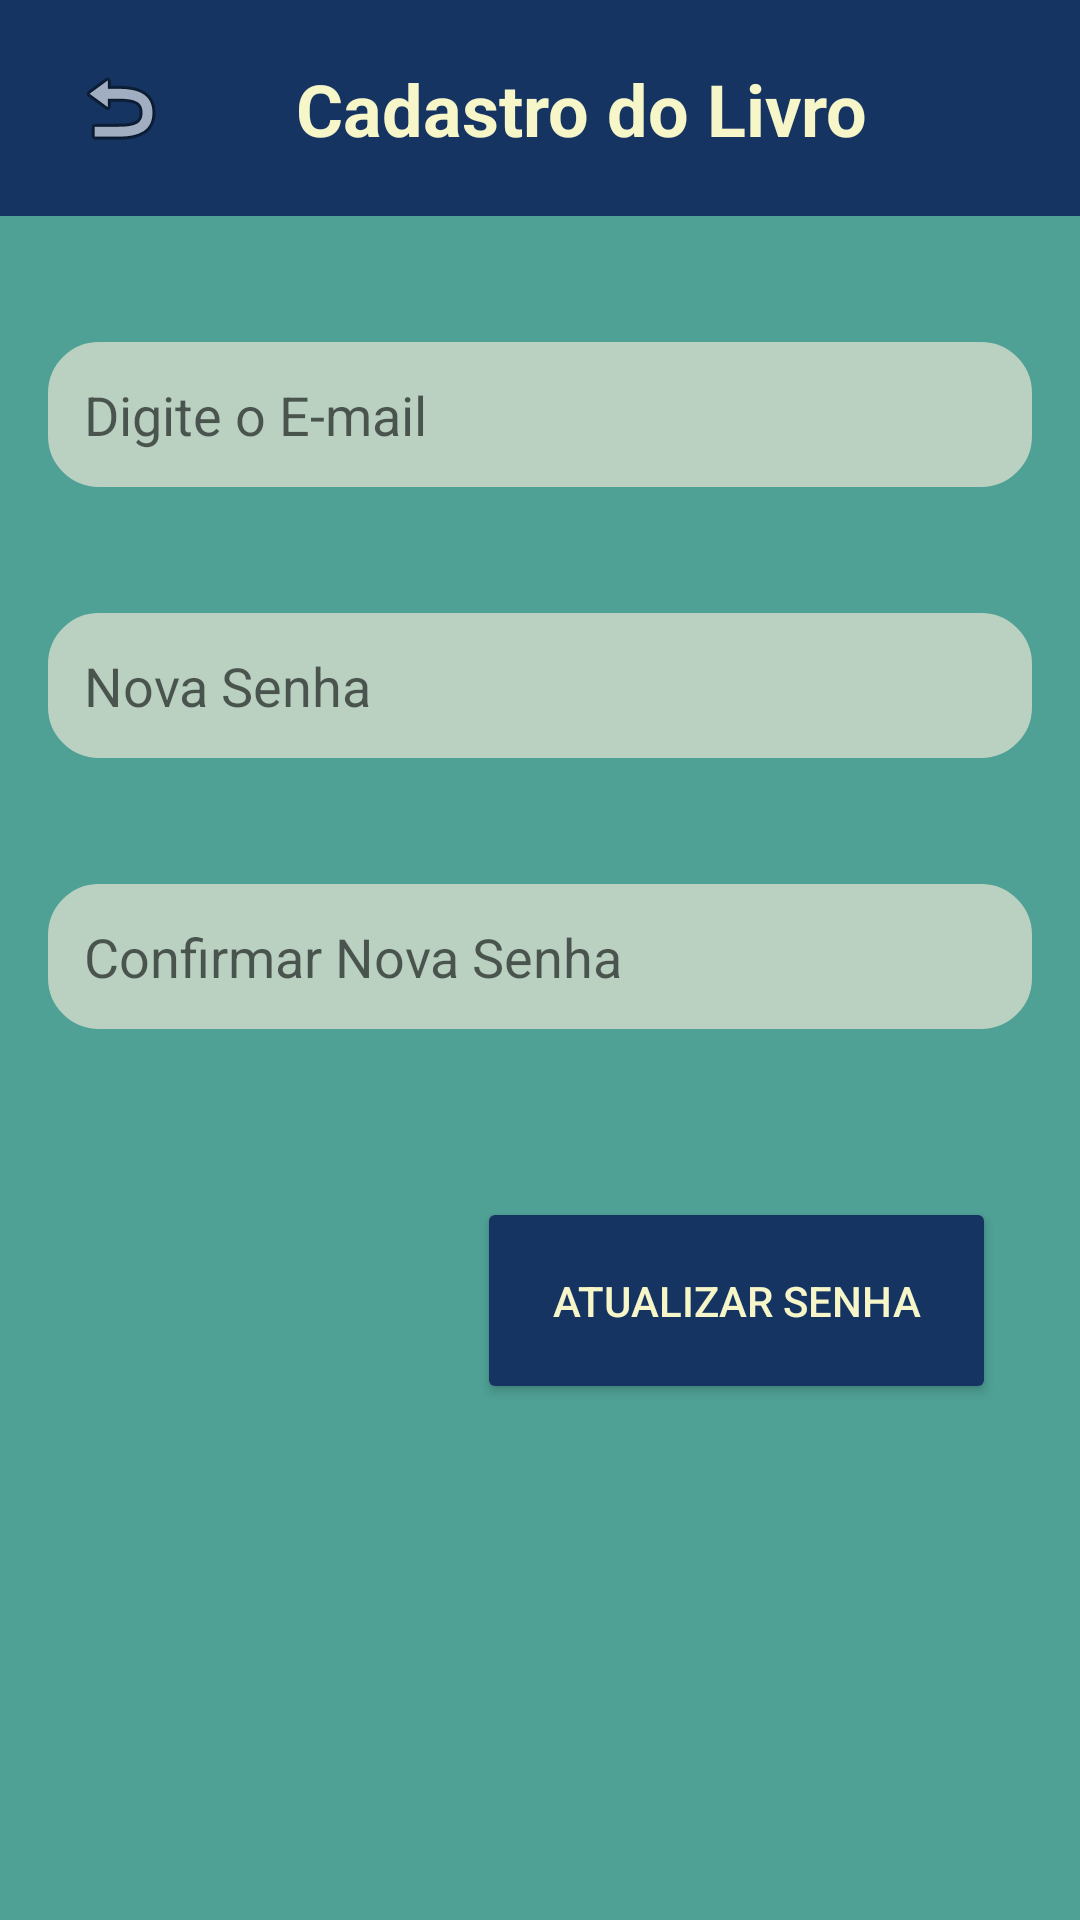

Icons on this 1080x1920 Android screen, each with the point to tap as [x,y]:
Voltar: [121,109]
